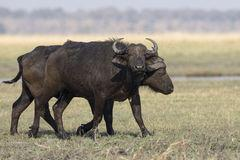Buffalo: (10, 19, 186, 131)
